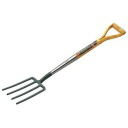Fork: (1, 20, 128, 105)
